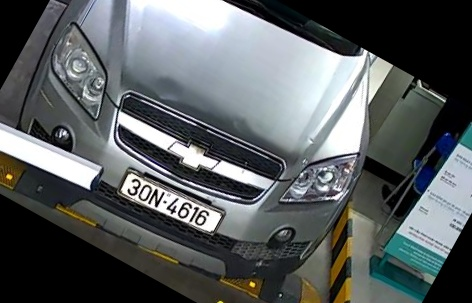plate: (118, 168, 235, 238)
